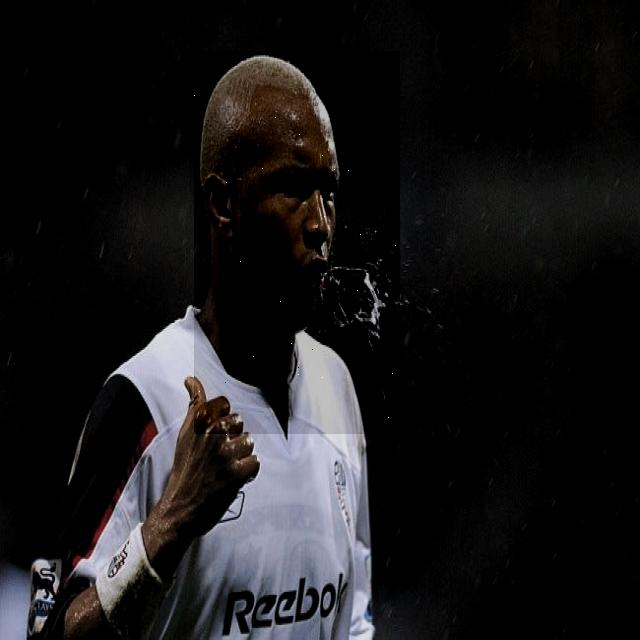Spitting: (194, 52, 400, 436)
